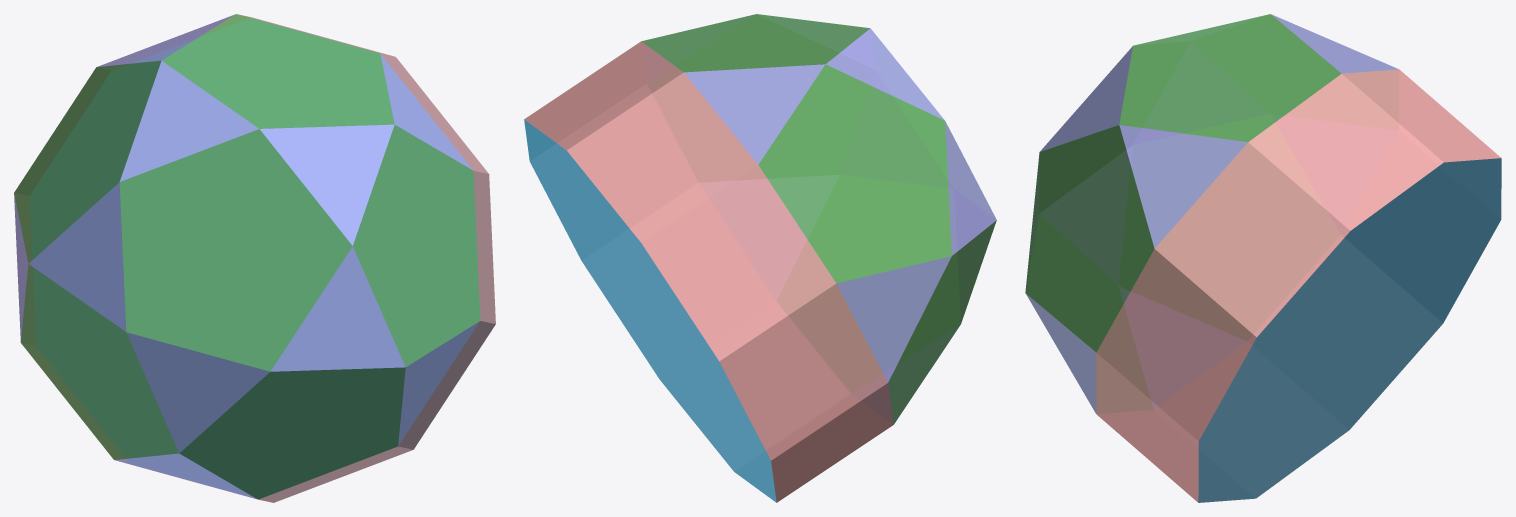
The model's file is j21_elongated_pentagonal_rotunda.obj.
3 renders of one model, left to right at view 1: azimuth 30°, elevation 25°; view 2: azimuth 150°, elevation 25°; view 3: azimuth 270°, elevation 25°, orthographic. The views are drawn at different scales.
Bounding box in the file's own units: 2.03 × 1.98 × 1.95.
